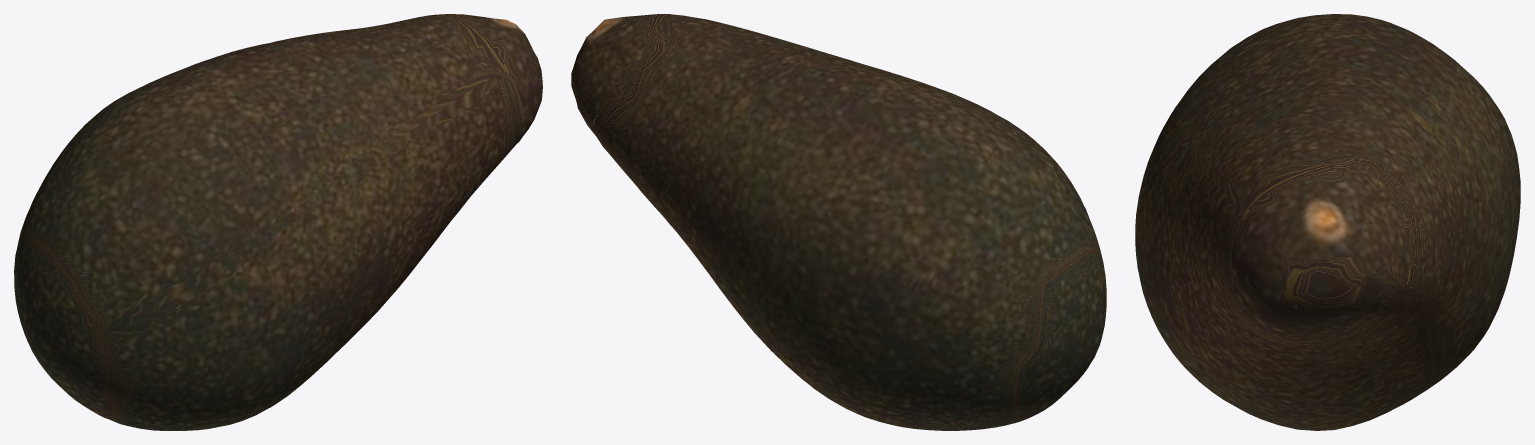
The model's file is food_produce_avocado_g01.glb.
The picture shows the model from 3 angles, left to right: view 1: azimuth 30°, elevation 25°; view 2: azimuth 150°, elevation 25°; view 3: azimuth 270°, elevation 25°; orthographic projection. The views are drawn at different scales.
Parts seen in each view (by area): view 1: prop; view 2: prop; view 3: prop.
Part boxes in pixels (x1,y1,x2,y2): prop: (14,14,542,430); prop: (571,14,1106,430); prop: (1135,14,1520,430).
Bounding box in the file's own units: 0.6108 × 0.3877 × 0.3379.
1 material, 1 textured.
